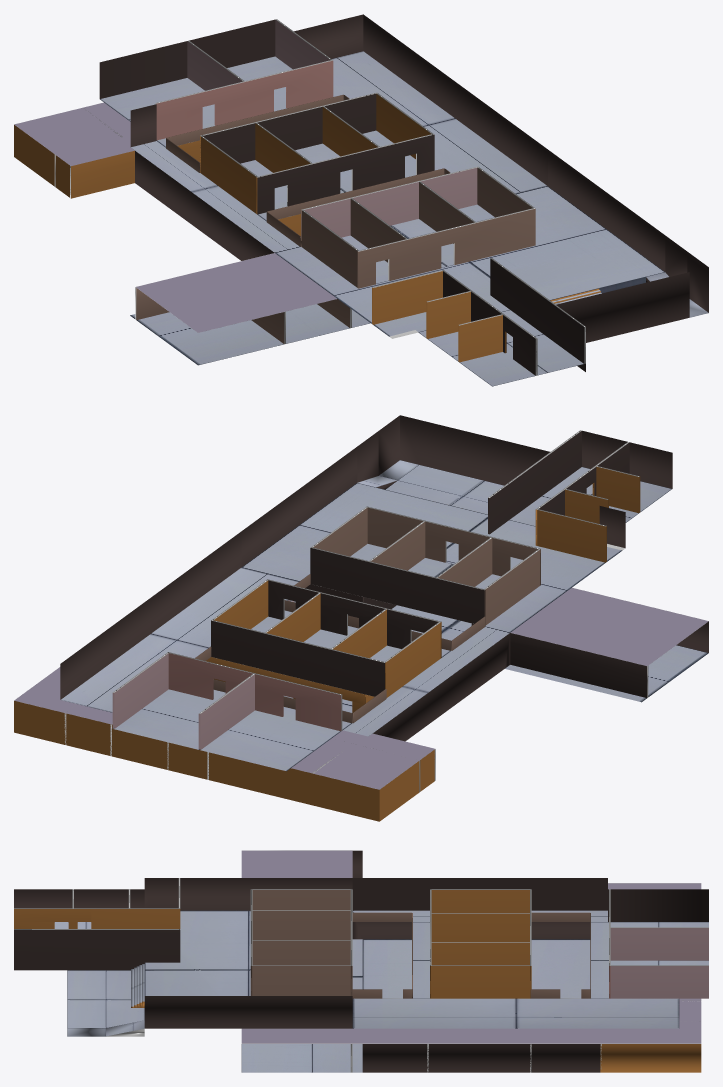
The model's file is ExactumFirstAndBottomFloor.fbx.
The picture shows the model from 3 angles, top to bottom: view 1: azimuth 30°, elevation 25°; view 2: azimuth 150°, elevation 25°; view 3: azimuth 270°, elevation 25°; orthographic projection. The views are drawn at different scales.
Visible parts, largest first — view 1: lobby, FirstFloorMainCorridor, BottomFloorCeiling, D_ClassRooms, B_ClassroomDoorWall, D_ClassRoomDoorWall, C_ClassRoomDoorWall, NFloor, EntreFloor, FirstFloorSecondaryCorridor, C_ClassroomBackwall, B_ClassroomBackwall (+25 smaller); view 2: lobby, BottomFloorCeiling, FirstFloorMainCorridor, SFloor, D_ClassRooms, EntreFloor, B_ClassroomBackwall, C_ClassroomBackwall, D_ClassRoomDoorWall, ComputerCorridorWall2, FirstFloorRestrooms, Midfloor (+22 smaller); view 3: lobby, Midfloor, BottomFloorCeiling, FirstFloorMainCorridor, FirstFloorSecondaryCorridor, Restroom_Entry_Divider, D_ClassRooms, NFloor, EntreFloor, C_ClassroomRightWall, D_ClassroomRightWall, D_Classroom_Ins (+15 smaller).
Boxes of the visible parts, <box> form: lobby: <box>275,150,665,338</box>; FirstFloorMainCorridor: <box>294,14,547,193</box>; BottomFloorCeiling: <box>14,102,336,332</box>; D_ClassRooms: <box>99,19,292,147</box>; B_ClassroomDoorWall: <box>357,208,535,288</box>; D_ClassRoomDoorWall: <box>155,60,333,140</box>; C_ClassRoomDoorWall: <box>256,134,434,214</box>; NFloor: <box>130,304,370,365</box>; EntreFloor: <box>556,272,689,342</box>; FirstFloorSecondaryCorridor: <box>130,104,299,252</box>; C_ClassroomBackwall: <box>200,92,377,172</box>; B_ClassroomBackwall: <box>301,166,478,246</box>; lobby: <box>241,447,625,632</box>; BottomFloorCeiling: <box>14,586,708,789</box>; FirstFloorMainCorridor: <box>60,531,299,712</box>; SFloor: <box>14,701,434,821</box>; D_ClassRooms: <box>113,689,351,771</box>; EntreFloor: <box>385,420,549,514</box>; B_ClassroomBackwall: <box>310,547,485,625</box>; C_ClassroomBackwall: <box>211,620,385,696</box>; D_ClassRoomDoorWall: <box>167,652,342,731</box>; ComputerCorridorWall2: <box>471,623,648,697</box>; FirstFloorRestrooms: <box>510,430,672,526</box>; Midfloor: <box>284,633,510,741</box>; lobby: <box>144,878,352,1028</box>; Midfloor: <box>352,922,600,1072</box>; BottomFloorCeiling: <box>241,850,701,1043</box>; FirstFloorMainCorridor: <box>352,998,679,1028</box>; FirstFloorSecondaryCorridor: <box>352,878,607,921</box>; Restroom_Entry_Divider: <box>14,929,180,970</box>; D_ClassRooms: <box>591,889,708,998</box>; NFloor: <box>241,850,362,1072</box>; EntreFloor: <box>67,970,144,1027</box>; C_ClassroomRightWall: <box>431,965,529,998</box>; D_ClassroomRightWall: <box>610,965,708,998</box>; D_Classroom_Ins: <box>610,927,708,960</box>.
Size of the model in its own units: 50.82 by 7.53 by 77.22.
